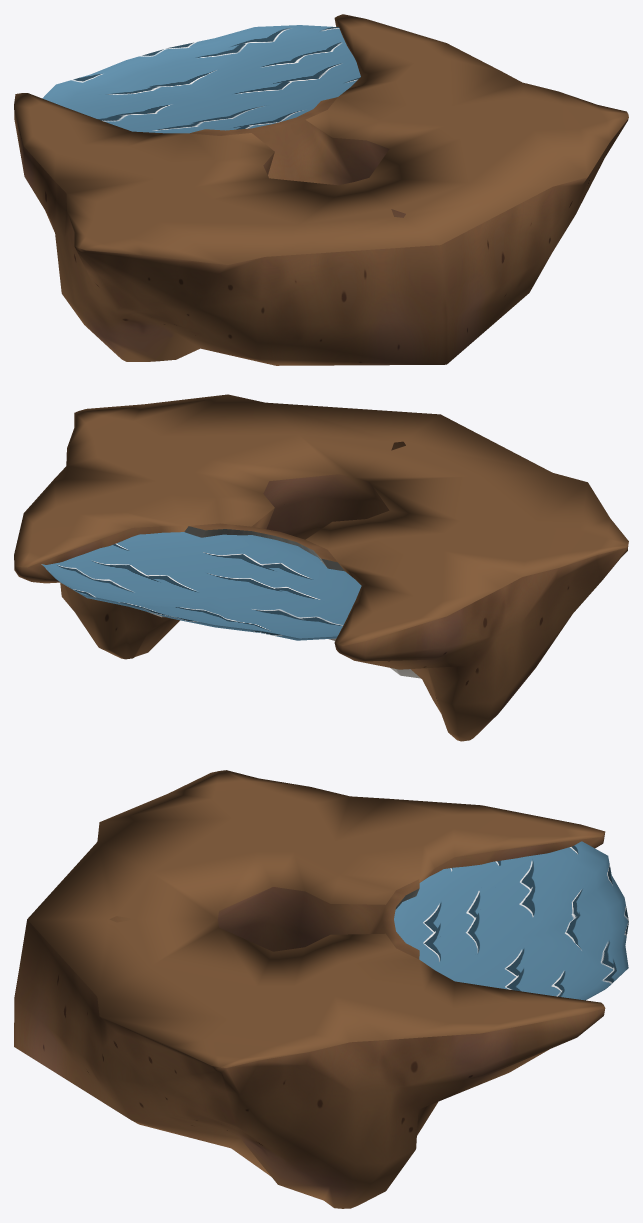
Rendered from HydroDam_old.FBX.
3 renders of one model, top to bottom at view 1: azimuth 30°, elevation 25°; view 2: azimuth 150°, elevation 25°; view 3: azimuth 270°, elevation 25°, orthographic. The views are drawn at different scales.
Visible parts, largest first — view 1: Box001, Sphere003; view 2: Box001, Sphere003; view 3: Box001, Sphere003.
Part boxes in pixels (box(x1,y1,x2,y2)): Box001: box(14, 14, 628, 365); Sphere003: box(42, 25, 360, 133); Box001: box(14, 394, 628, 741); Sphere003: box(41, 532, 361, 640); Box001: box(14, 770, 605, 1208); Sphere003: box(394, 841, 628, 1000).
Size of the model in its own units: 54 by 16.46 by 47.09.
